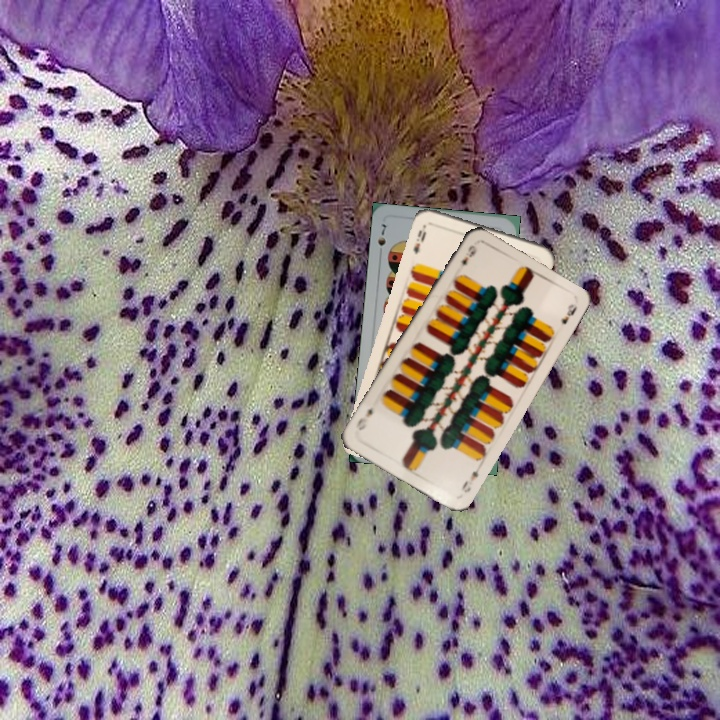E9: (457, 462, 483, 495), (409, 226, 429, 256), (457, 241, 478, 269)
S7: (374, 219, 389, 259)
